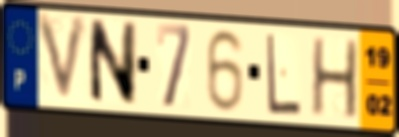6: (204, 27, 246, 115)
7: (155, 20, 192, 114)
H: (309, 36, 360, 122)
L: (265, 31, 303, 117)
N: (86, 17, 139, 108)
V: (33, 12, 91, 108)
